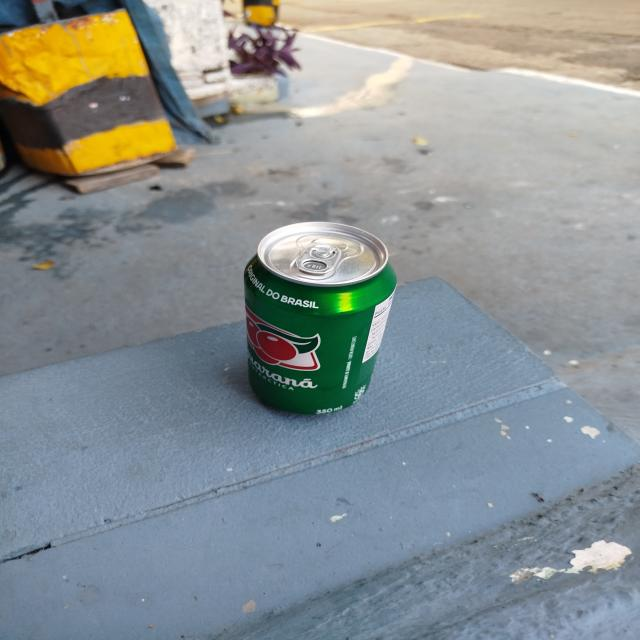Guarana: (241, 222, 399, 412)
